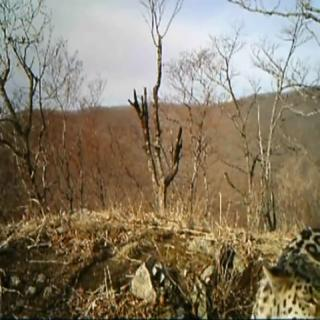Leopard: (258, 231, 320, 320)
